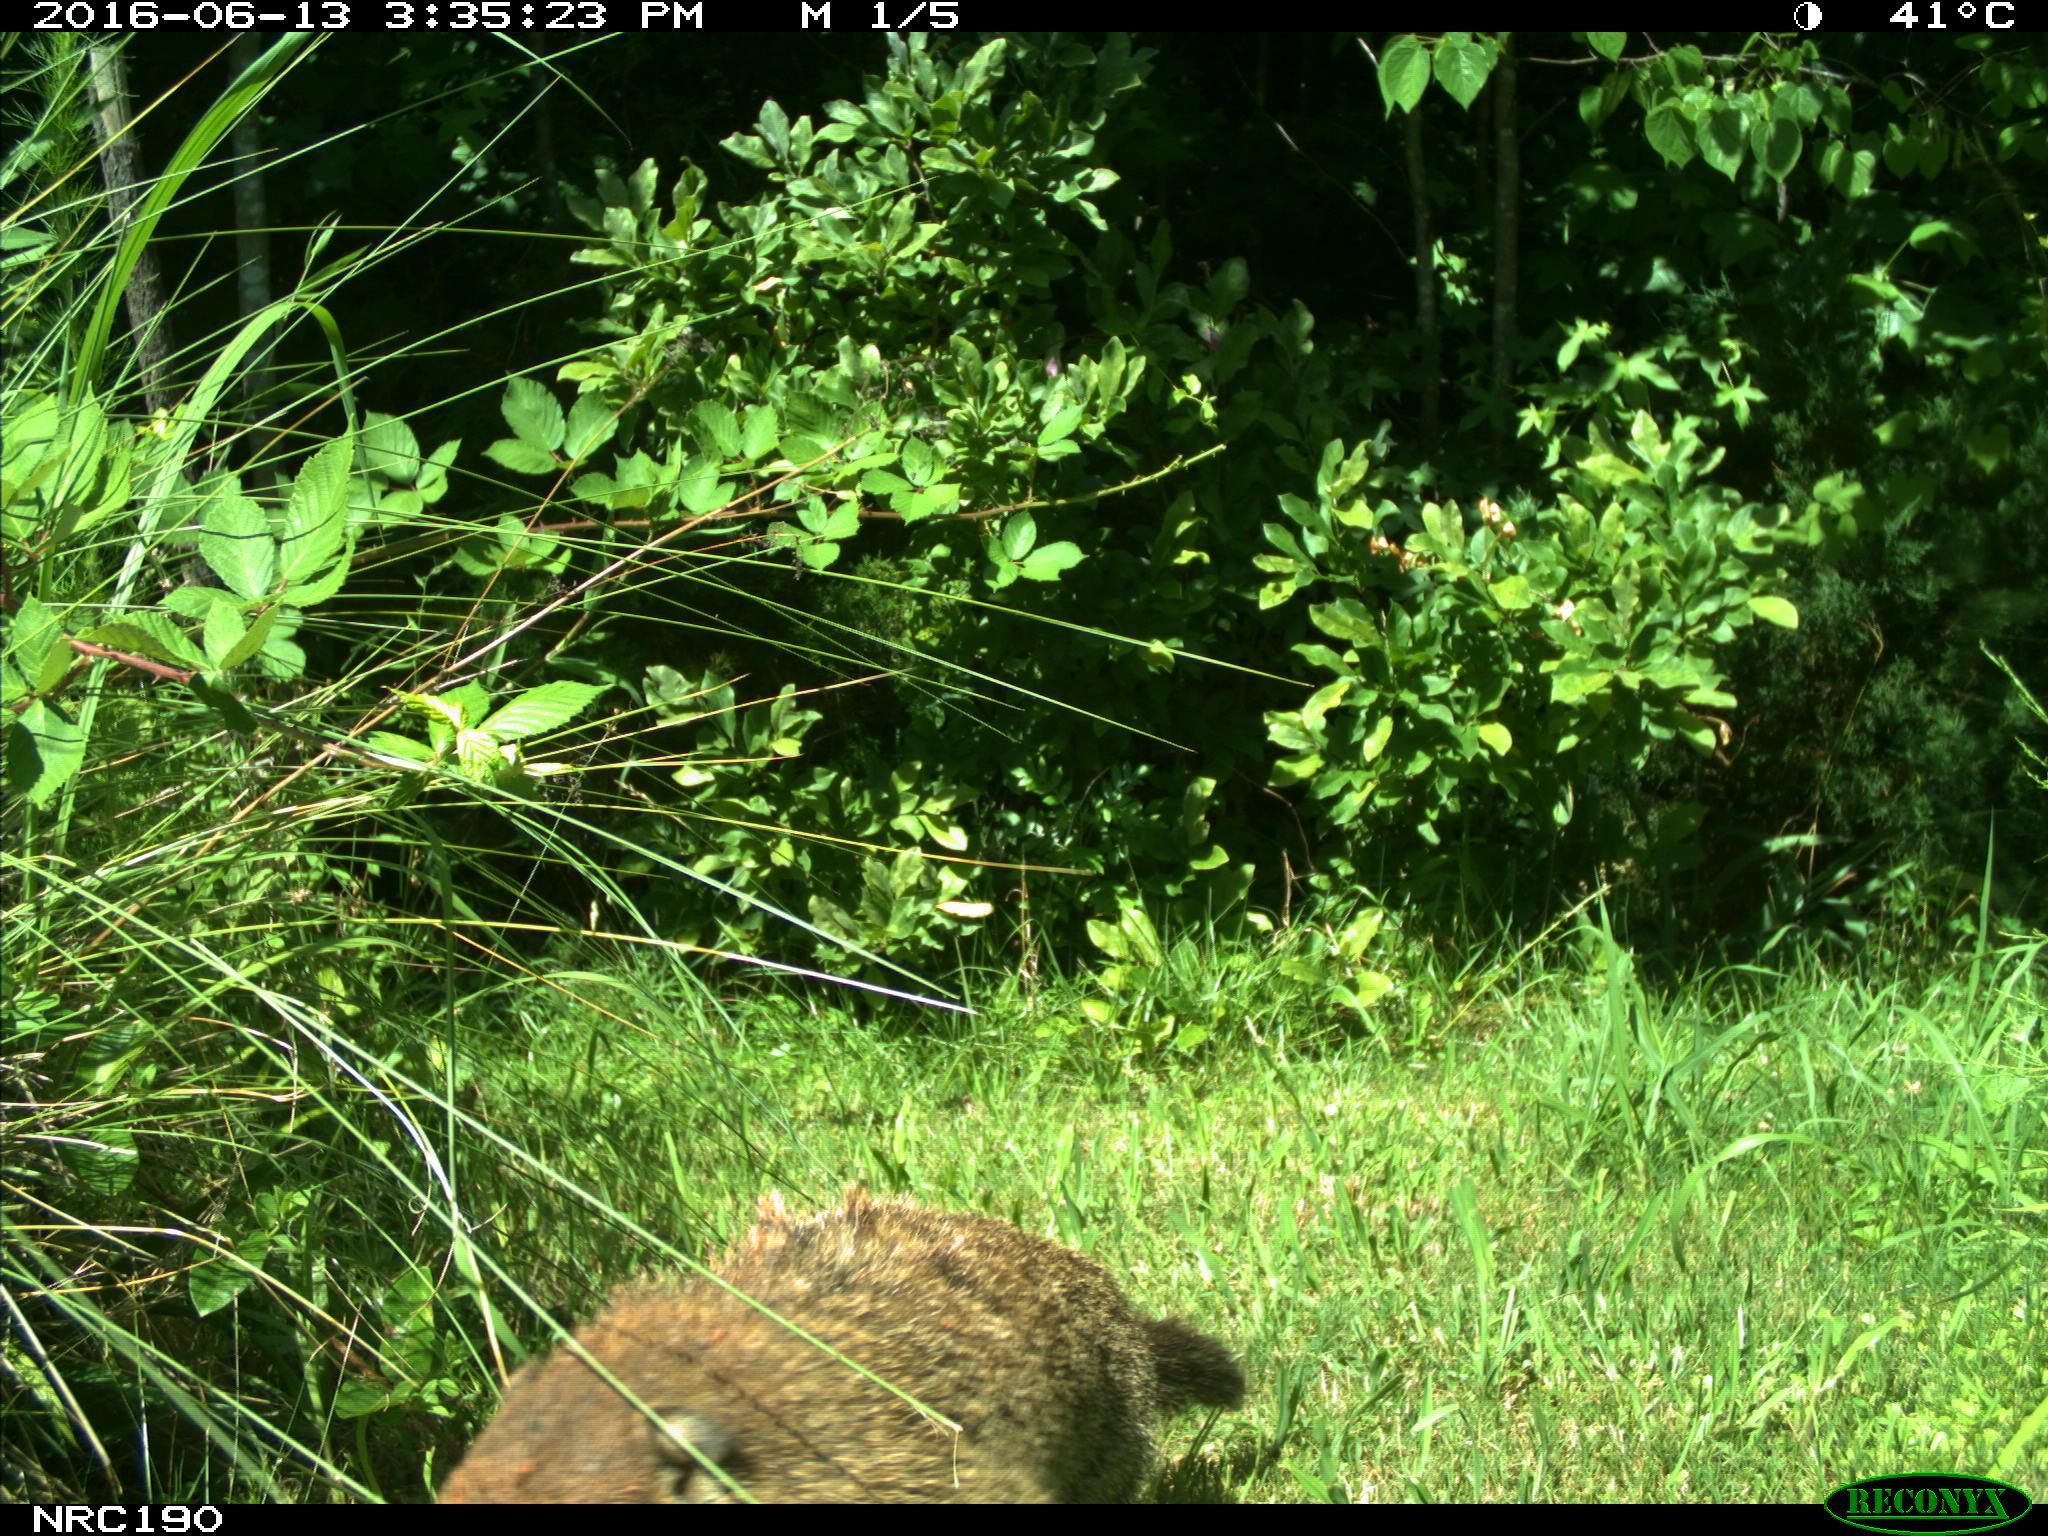Animal: (427, 1192, 1243, 1509)
